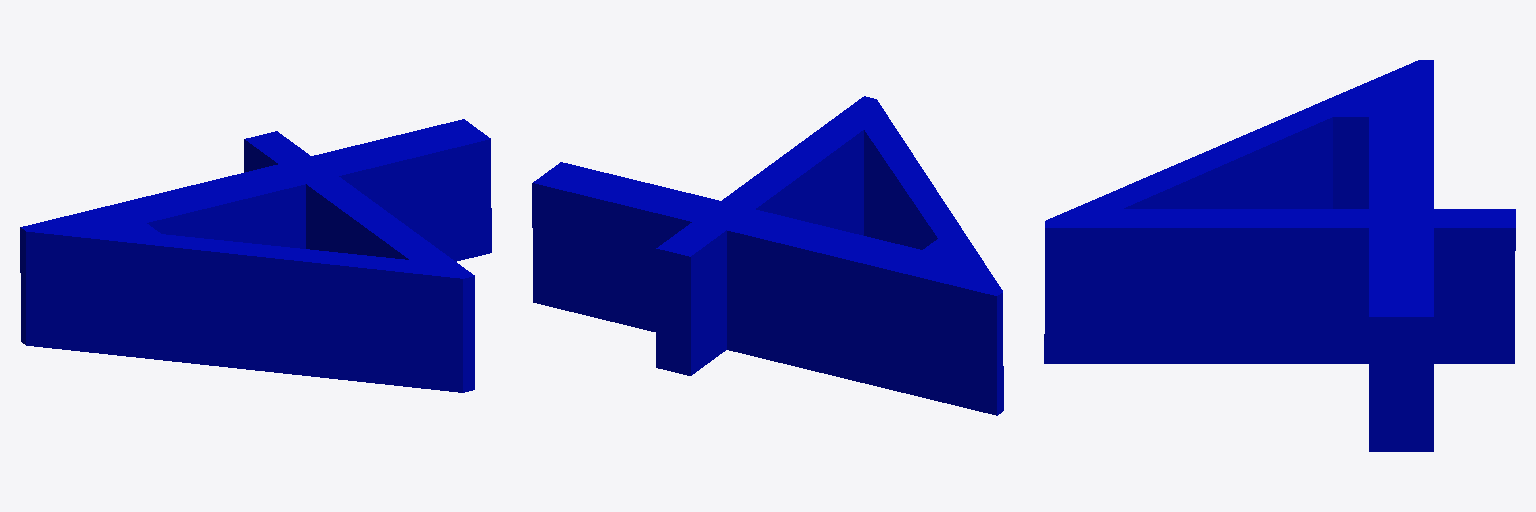
robot.urdf — number_4:
<?xml version="0.0" ?>
<robot name="number_4">
    <material name="blue">
        <color rgba="0.006995 0.054480 0.799103 1"/>
    </material>

    <link name="baseLink">
        <!-- from lego/lego.urdf -->
        <contact>
            <lateral_friction value="1.0"/>
            <rolling_friction value="0.0"/>
            <contact_cfm value="0.0"/>
            <contact_erp value="1.0"/>
        </contact>
        <inertial>
            <origin rpy="0 0 0" xyz="0 0 0"/>
            <mass value="0.01"/>
            <inertia ixx="1" ixy="0" ixz="0" iyy="1" iyz="0" izz="1"/>
        </inertial>
        <visual>
            <origin rpy="1.57 0 0" xyz="0 0 0"/>
            <geometry>
                <!--        radius: 10mm, depth: 14.5mm-->
                <mesh filename="meshes/number_4.obj" scale="0.025 0.025 0.03"/>
                <!--        <box size="0.002 0.002 0.002"/>-->
            </geometry>
            <material name="blue"/>
        </visual>
        <collision>
            <origin rpy="1.57 0 0" xyz="0 0 0"/>
            <geometry>
                <mesh filename="meshes/number_4_vhacd.obj" scale="0.025 0.025 0.03"/>
                       <!-- <box size="0.002 0.002 0.002"/> -->
            </geometry>
        </collision>
    </link>

    <link name="waypoint_0">
        <!--    origin-->
        <inertial>
            <origin rpy="0 0 0" xyz="0 0 0"/>
            <mass value=".0"/>
            <inertia ixx="0." ixy="0" ixz="0" iyy="0." iyz="0" izz="0."/>
        </inertial>
    </link>

    <joint name="waypoint_joint_0" type="fixed">
        <parent link="baseLink"/>
        <child link="waypoint_0"/>
        <origin rpy="0 0 1.57" xyz="0 0.015 0.035"/>
    </joint>

    <link name="waypoint_1">
        <!--    origin-->
        <inertial>
            <origin rpy="0 0 0" xyz="0 0 0"/>
            <mass value=".0"/>
            <inertia ixx="0." ixy="0" ixz="0" iyy="0." iyz="0" izz="0."/>
        </inertial>
    </link>

    <joint name="waypoint_joint_1" type="fixed">
        <parent link="baseLink"/>
        <child link="waypoint_1"/>
        <origin rpy="0 0 0" xyz="0 0 0.15"/>
    </joint>
</robot>

--- Render facts (derived) ---
The picture shows the robot from 3 angles, left to right: view 1: azimuth 30°, elevation 25°; view 2: azimuth 150°, elevation 25°; view 3: azimuth 270°, elevation 25°; orthographic projection.
Robot: number_4 — 3 links, 2 joints (2 fixed); root link baseLink; default pose: all joints at 0.
Links seen in each view (by area): view 1: baseLink; view 2: baseLink; view 3: baseLink.
Link boxes in pixels (x1,y1,x2,y2): baseLink: (20, 119, 491, 392); baseLink: (532, 96, 1003, 415); baseLink: (1044, 60, 1515, 451).
Bounding box of the posed robot: 0.0651 × 0.0504 × 0.016 m (x, y, z).
Meshes: 1 distinct files referenced, 1 mesh visuals loaded (1 OBJ).